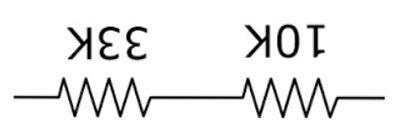resistor: (43, 73, 166, 121), (232, 70, 351, 119)
